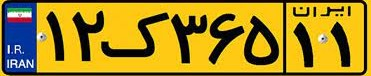character: (103, 7, 171, 66), (243, 10, 281, 69), (172, 8, 209, 68), (207, 9, 245, 67), (71, 8, 103, 65), (289, 19, 318, 70), (43, 5, 68, 64), (328, 17, 355, 70)
